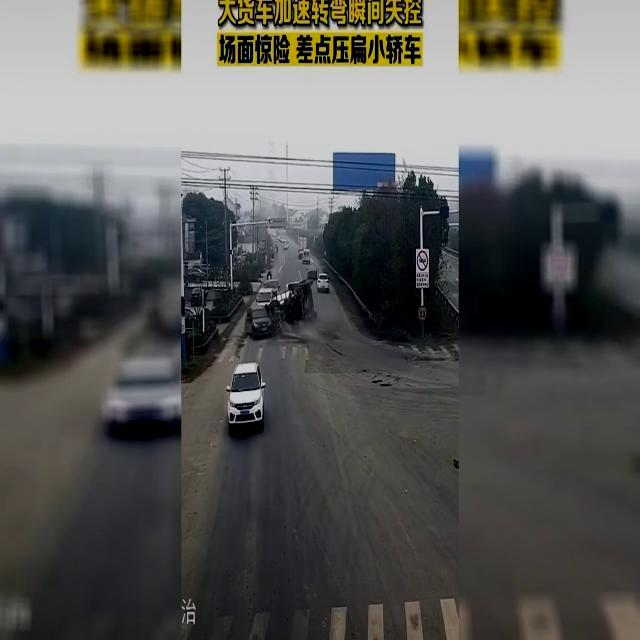accident: (245, 280, 312, 336)
